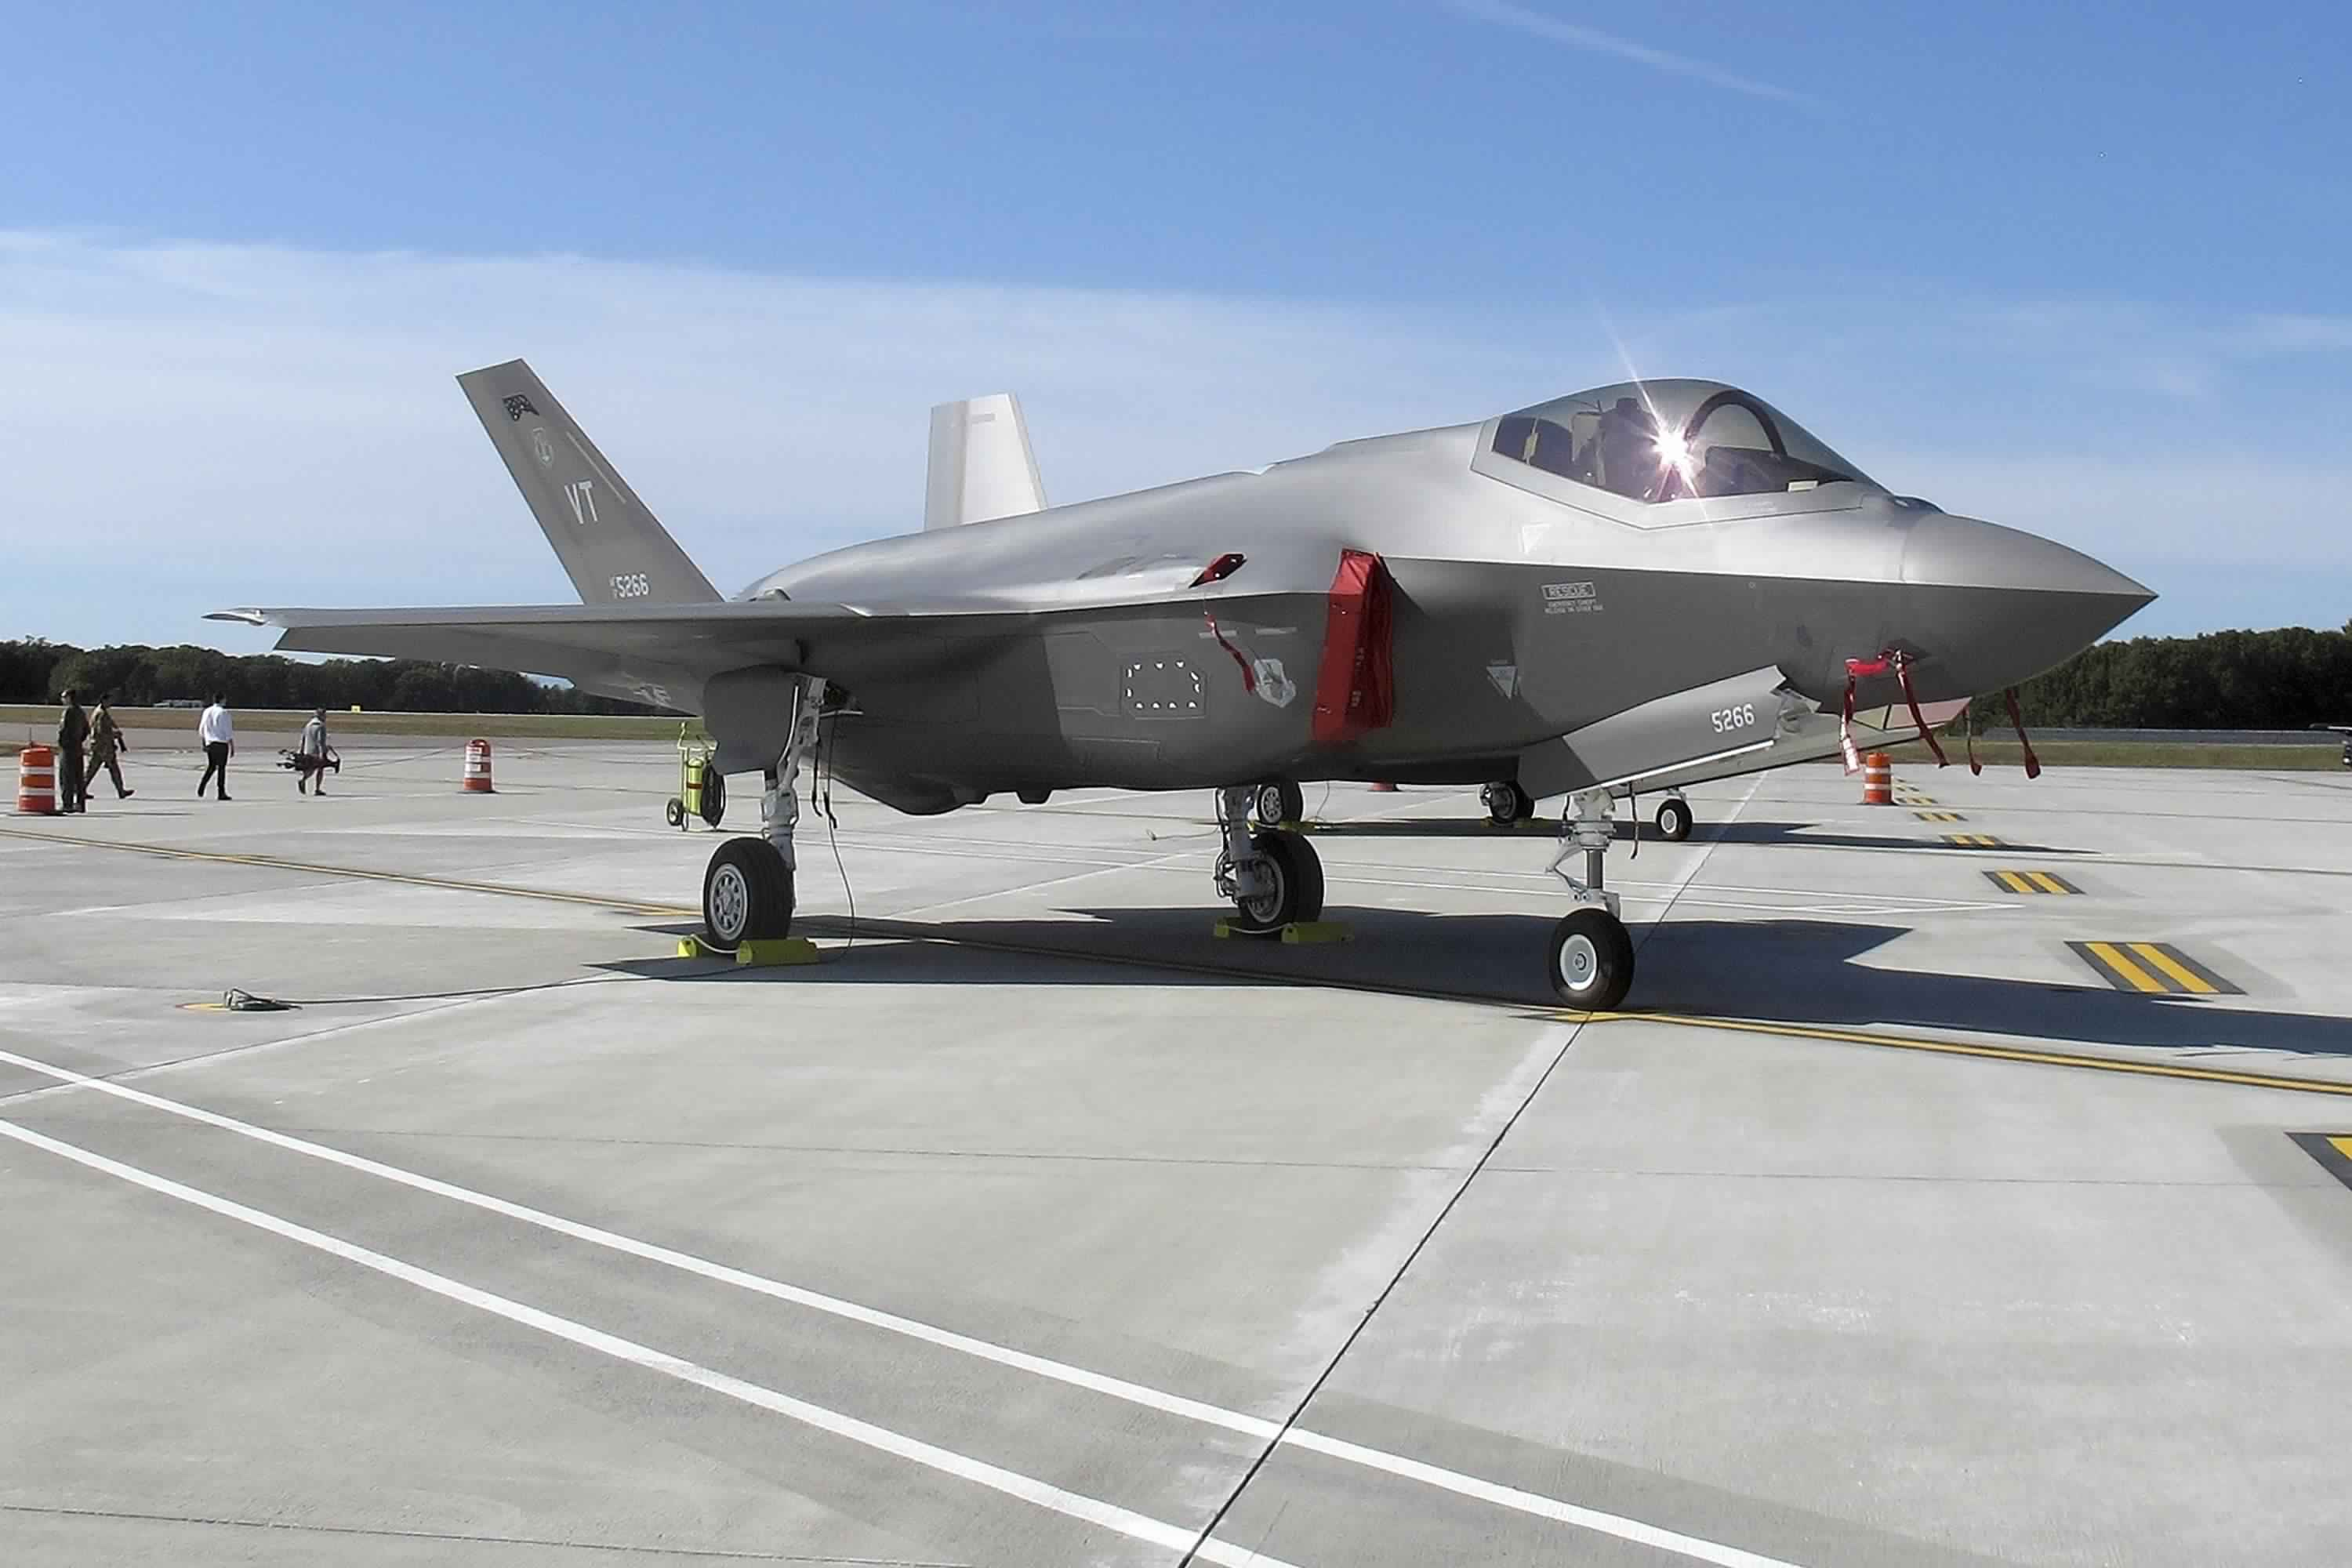F35: (189, 334, 2163, 1024)
